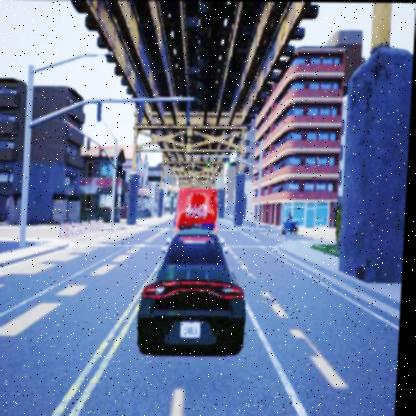motobike: (279, 208, 305, 242)
vehicle: (138, 227, 252, 355), (173, 184, 224, 265)
